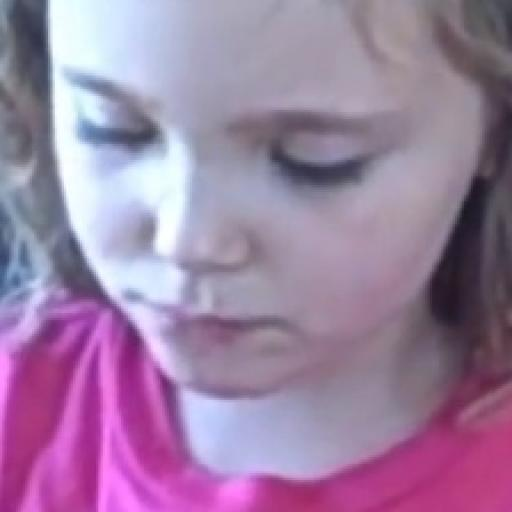Autism: (9, 0, 512, 455)
